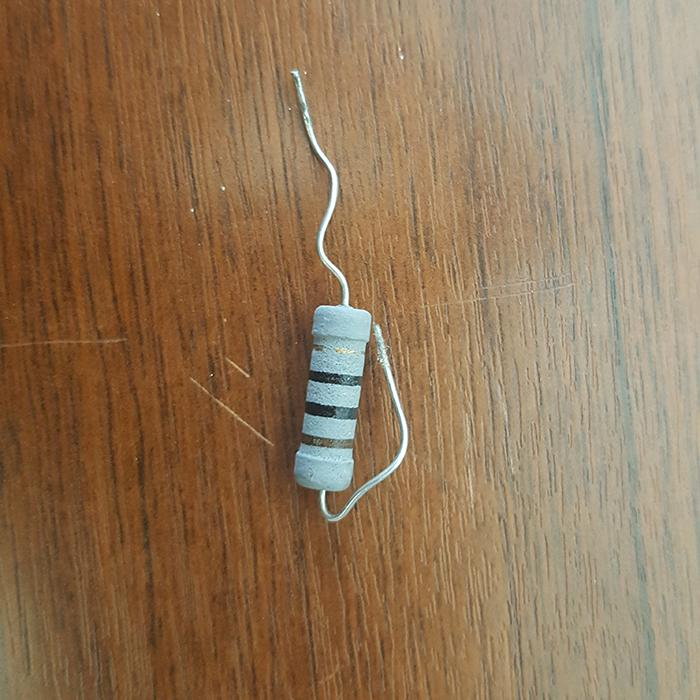resistor: (293, 303, 372, 491)
